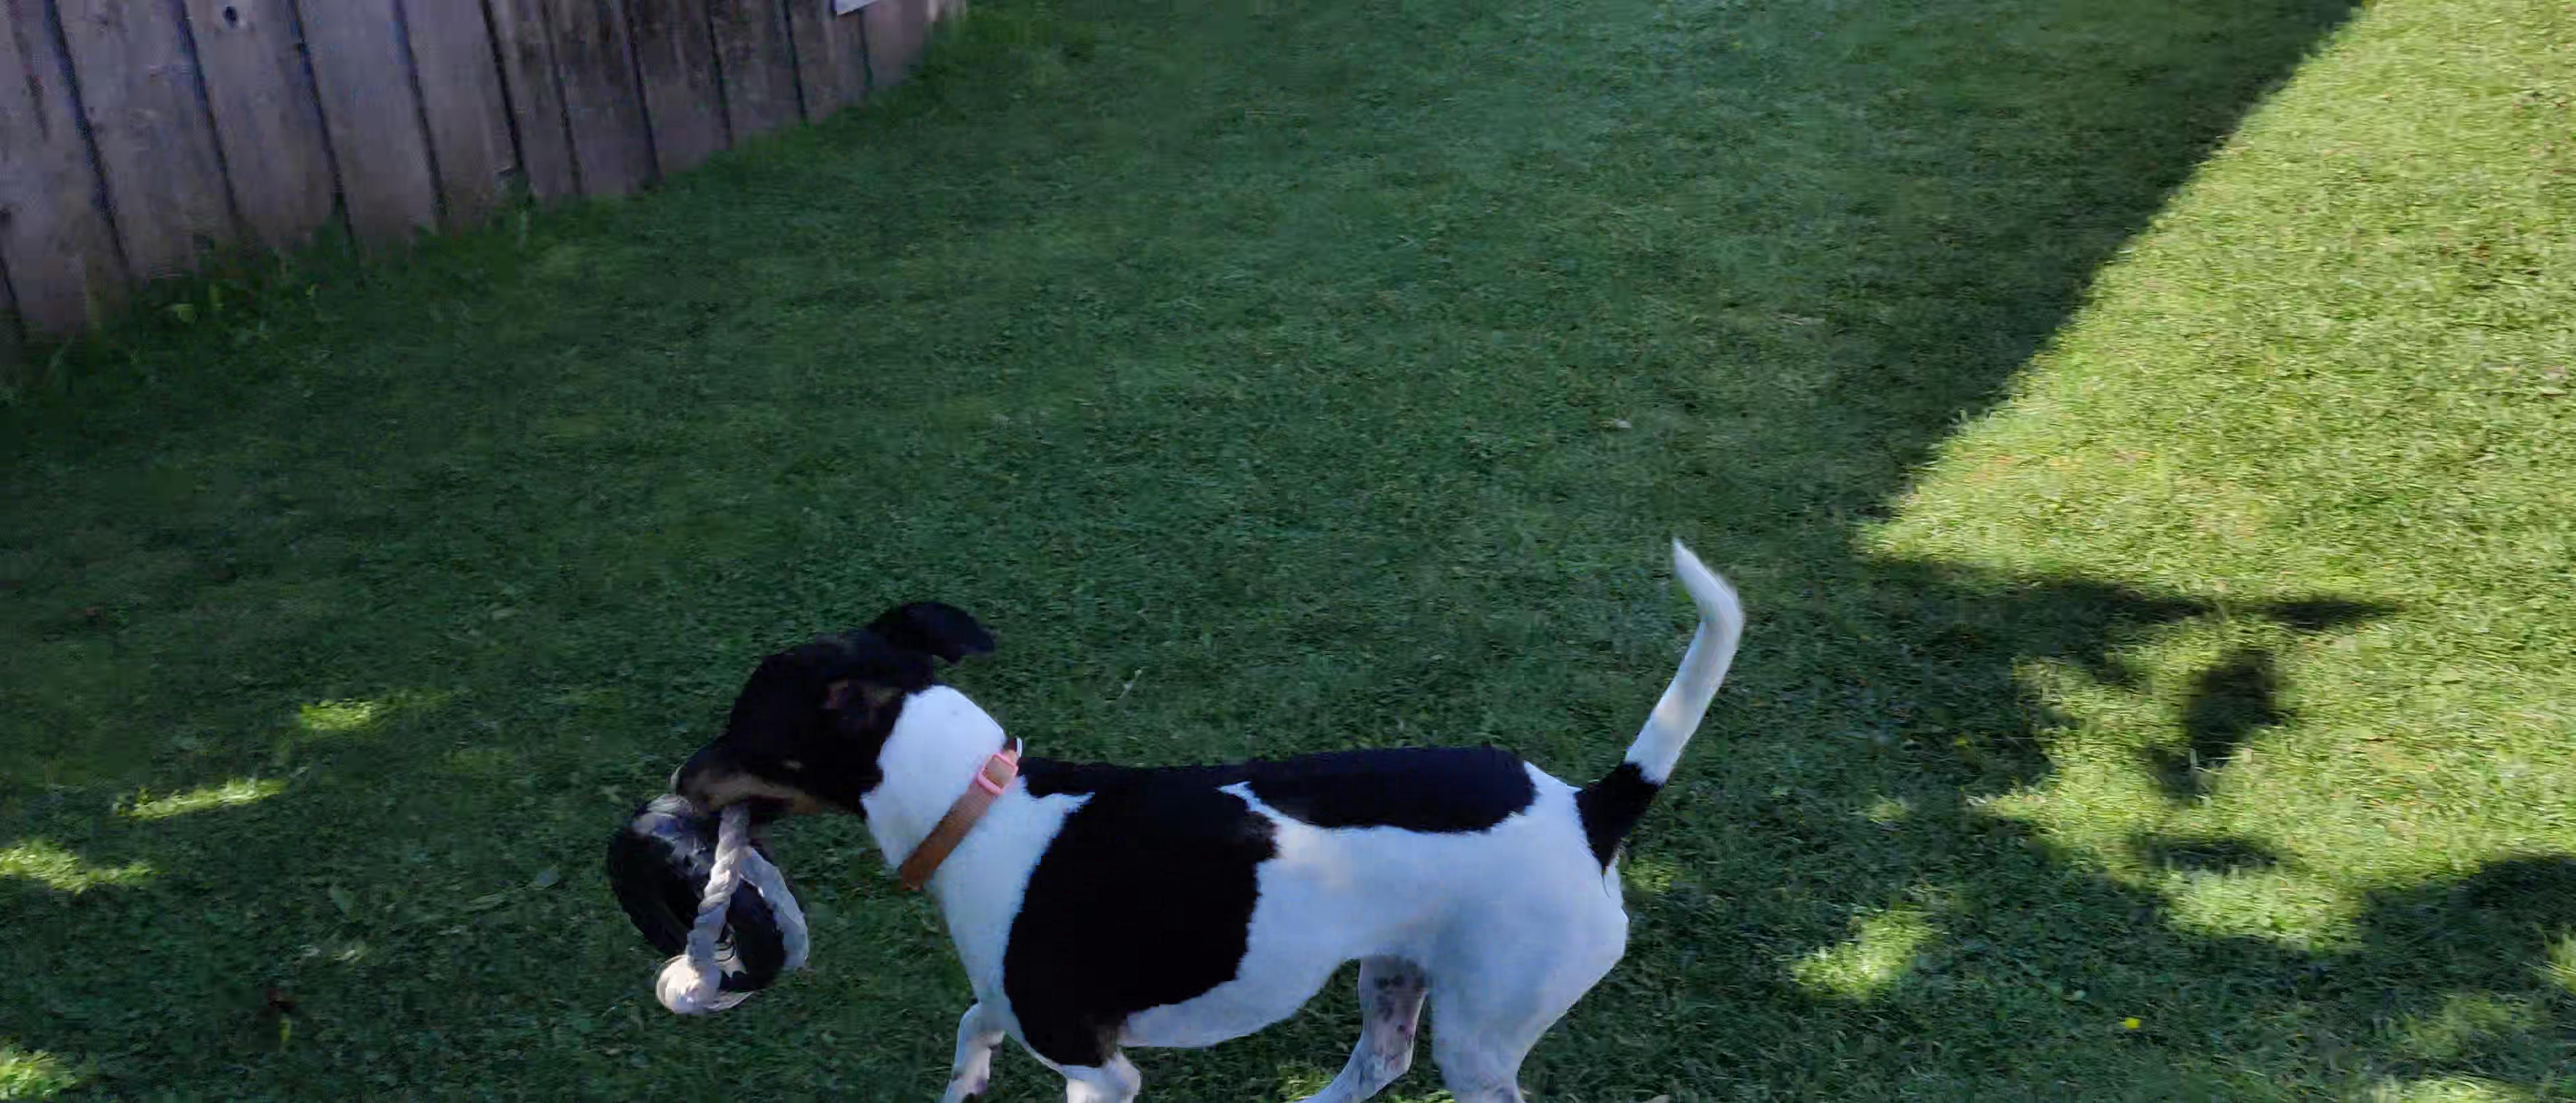Dog: (649, 519, 1771, 1103)
